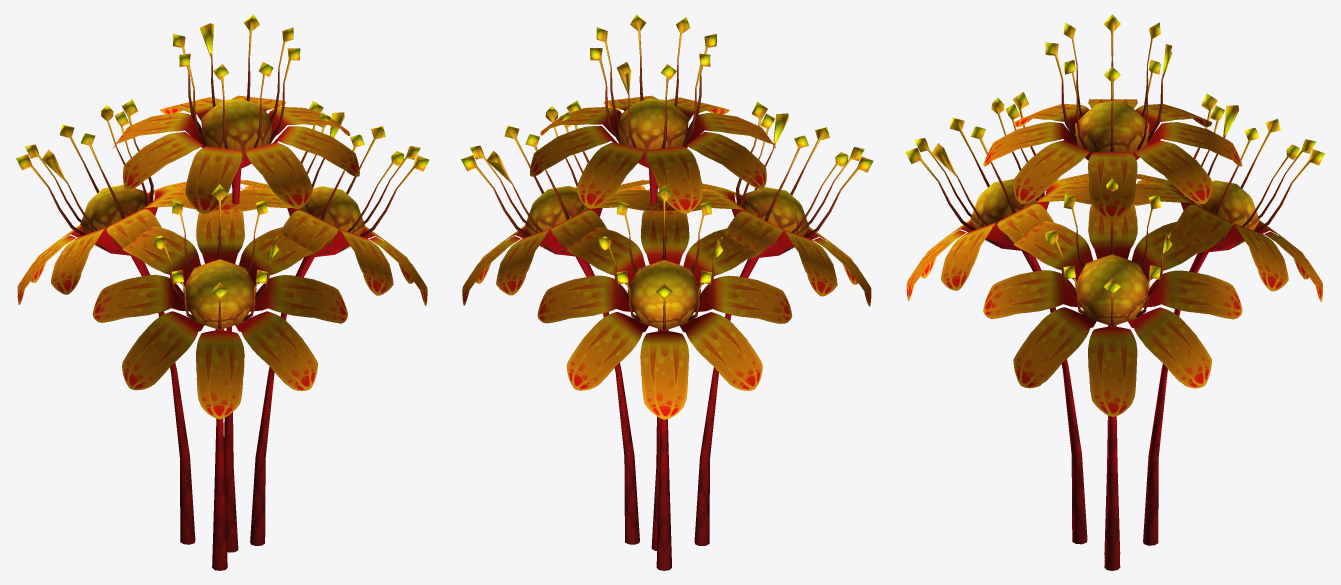
File: Red_Flower_02b.FBX
3 renders of one model, left to right at view 1: azimuth 30°, elevation 25°; view 2: azimuth 150°, elevation 25°; view 3: azimuth 270°, elevation 25°, orthographic.
Visible parts, largest first — view 1: Red_Flower_02b; view 2: Red_Flower_02b; view 3: Red_Flower_02b.
Part boxes in pixels (x1=…): Red_Flower_02b: x1=16, y1=14, x2=429, y2=570; Red_Flower_02b: x1=461, y1=14, x2=873, y2=570; Red_Flower_02b: x1=905, y1=14, x2=1324, y2=570.
Size of the model in its own units: 71.3 by 97.79 by 72.81.
